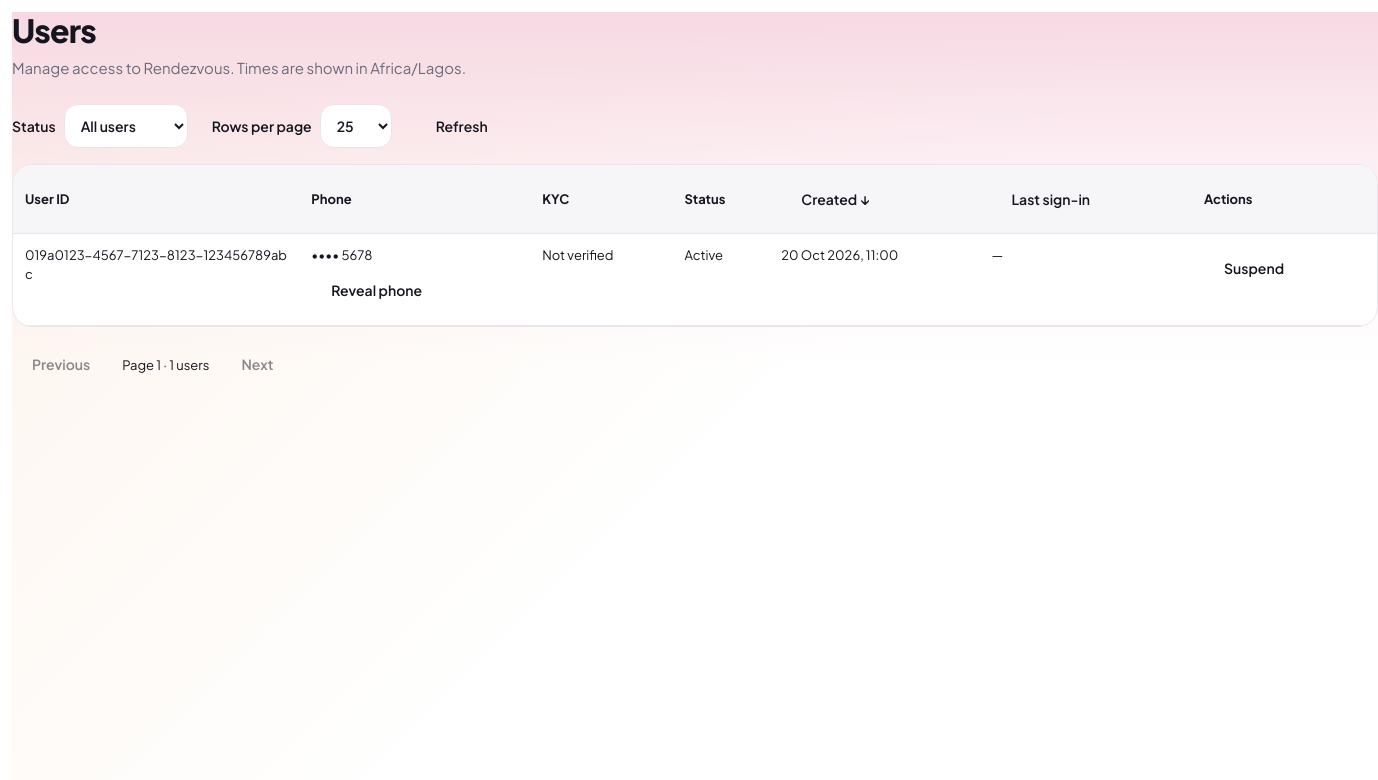
Test case: users console › cancels without sending a mutation
Click the button "Suspend" at [1254, 268], box [1204,246,1304,290]
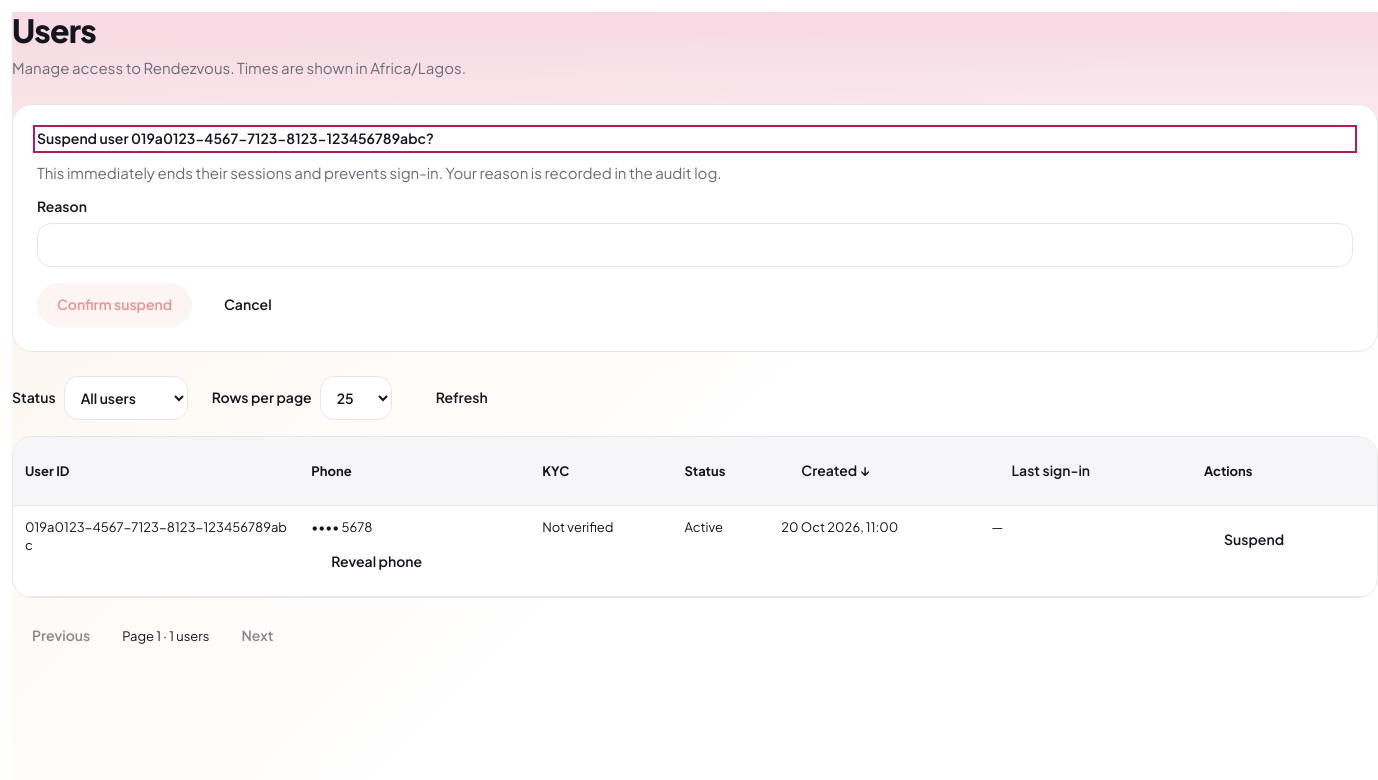
Click the button "Cancel" at [248, 305], box [204,283,292,327]
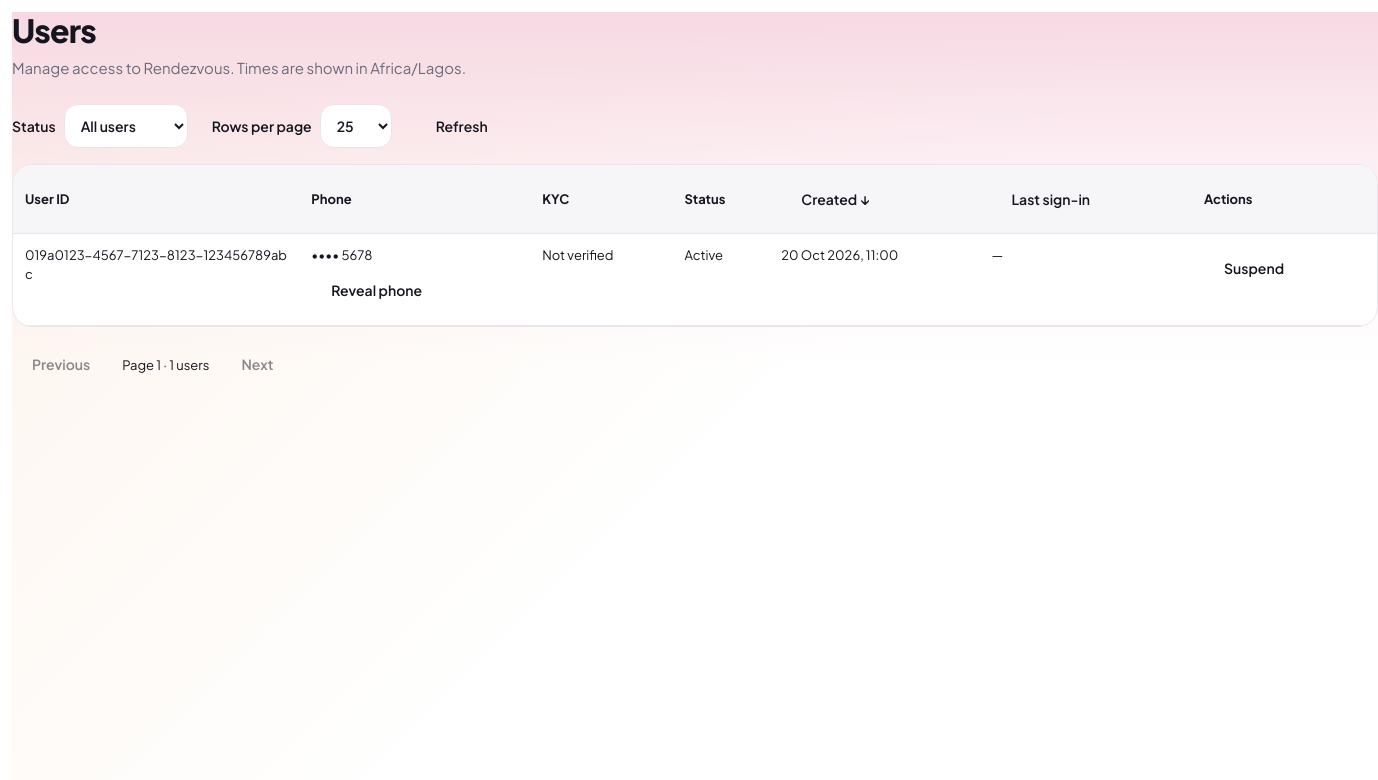
Result: the text labelled "reason" is gone
